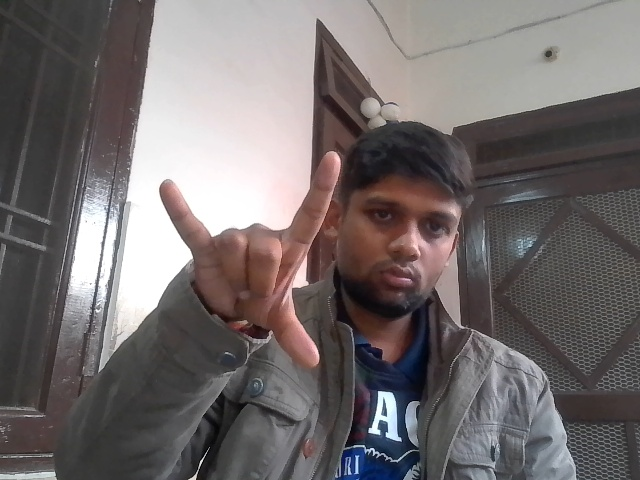ILoveYou: (148, 154, 366, 375)
